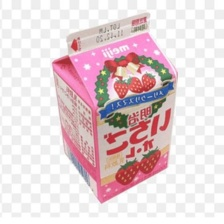carton: (48, 6, 180, 206)
